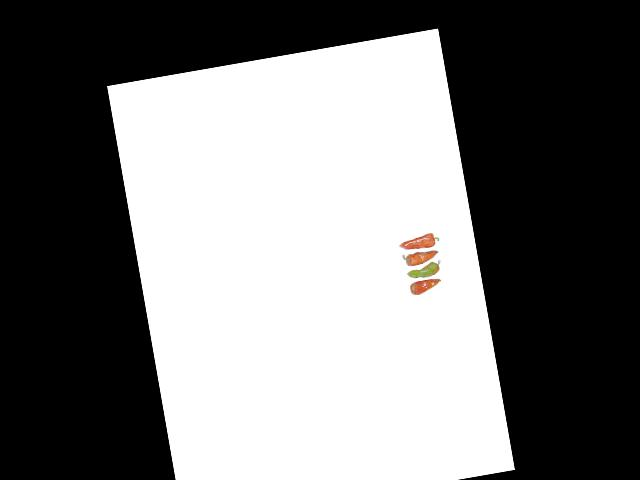bell_pepper: (407, 275, 446, 299)
